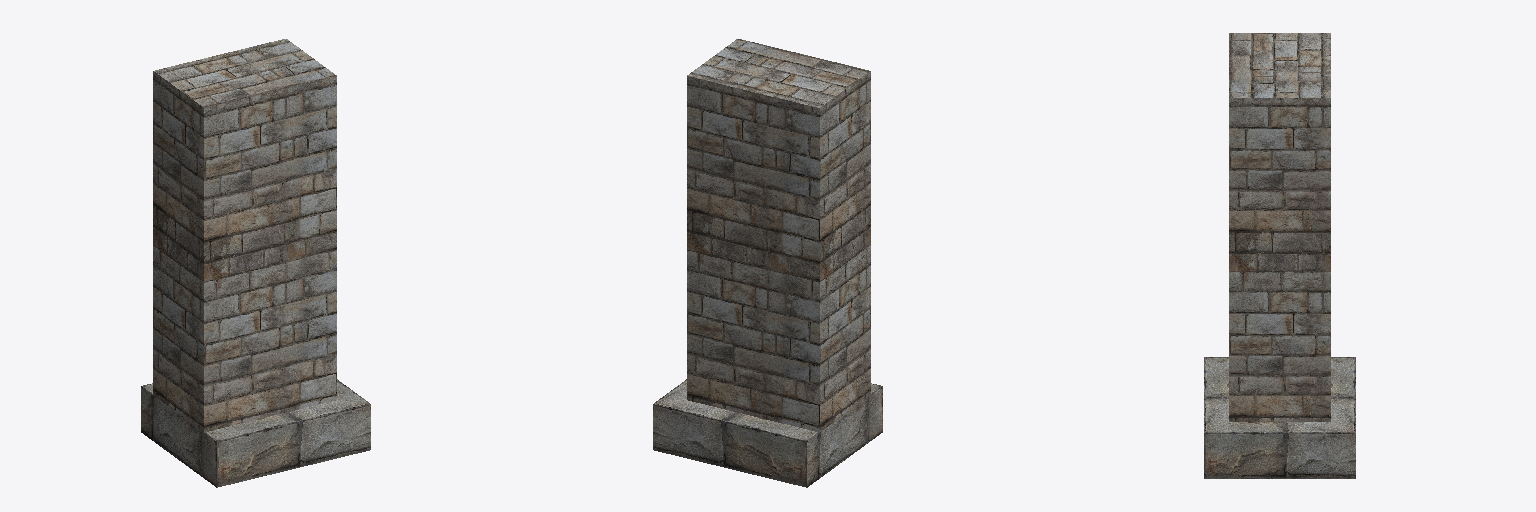
3 renders of one model, left to right at view 1: azimuth 30°, elevation 25°; view 2: azimuth 150°, elevation 25°; view 3: azimuth 270°, elevation 25°, orthographic.
Size of the model in its own units: 87.1 by 200 by 74.2.
2 materials, 2 textured.